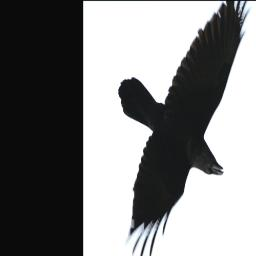Crow: (117, 1, 251, 256)
